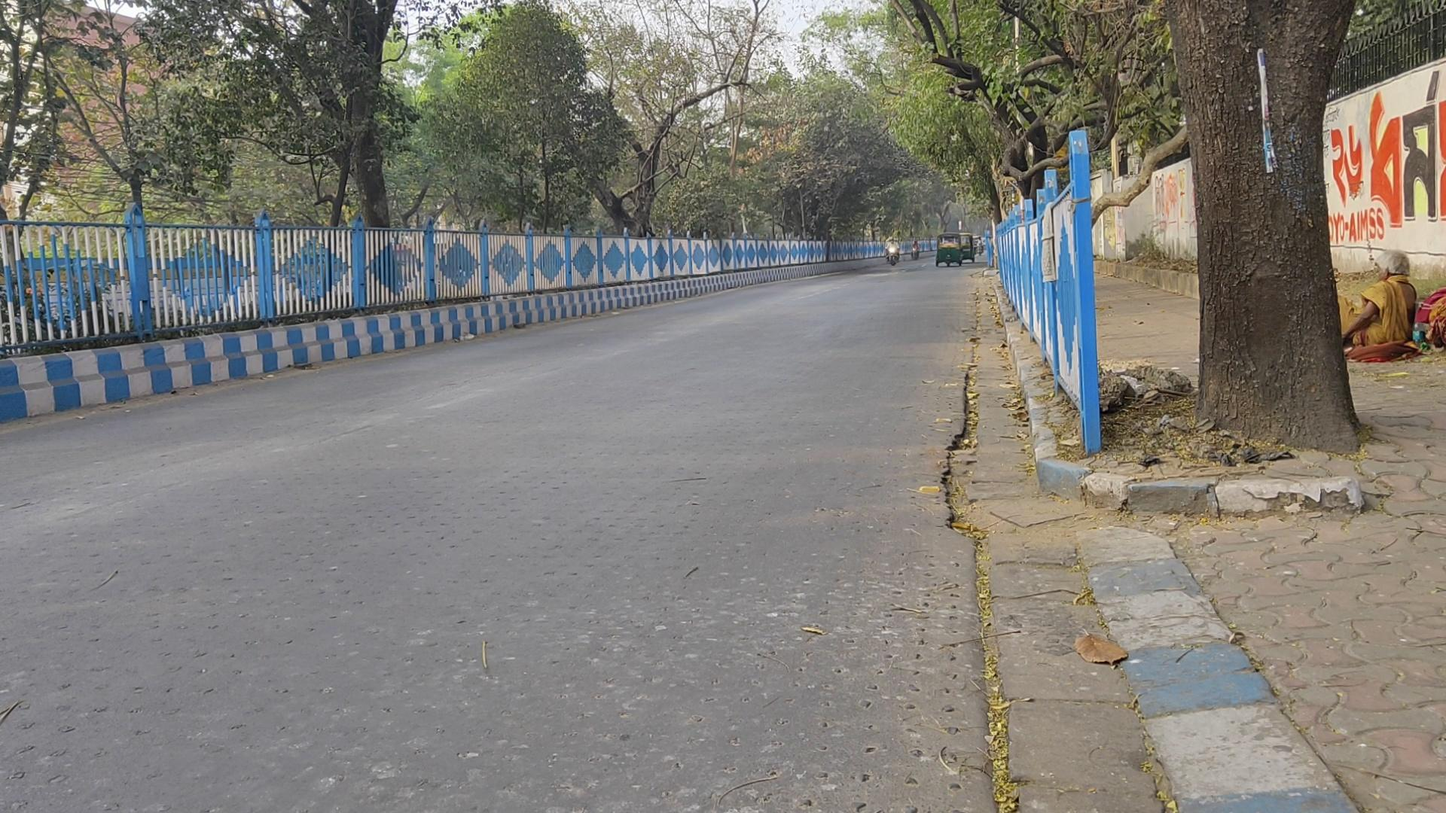Auto: (934, 232, 964, 269), (962, 233, 977, 265)
bike: (884, 235, 902, 266), (911, 238, 921, 262)
